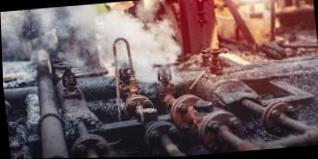leak: (0, 3, 182, 83)
